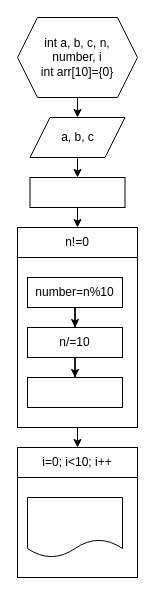
Image size: 155x595. Some labels were removed from this diagram. Here are the shapes that lost their labels. From the top down, the centre of each, then its label:
point 77,192: n=a*b*c
point 74,392: arr[number]++
point 74,527: arr[i] "\n"
